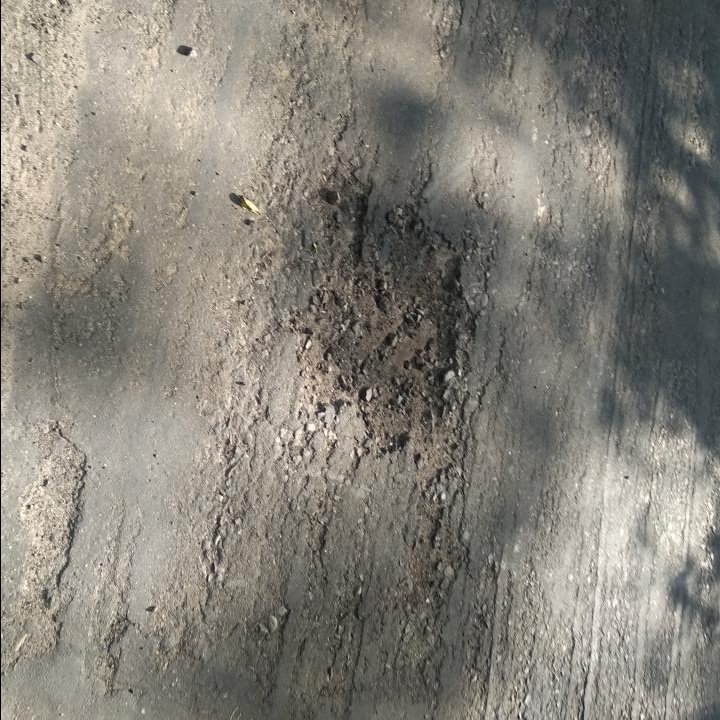pothole: (297, 191, 472, 462), (16, 434, 93, 602)
